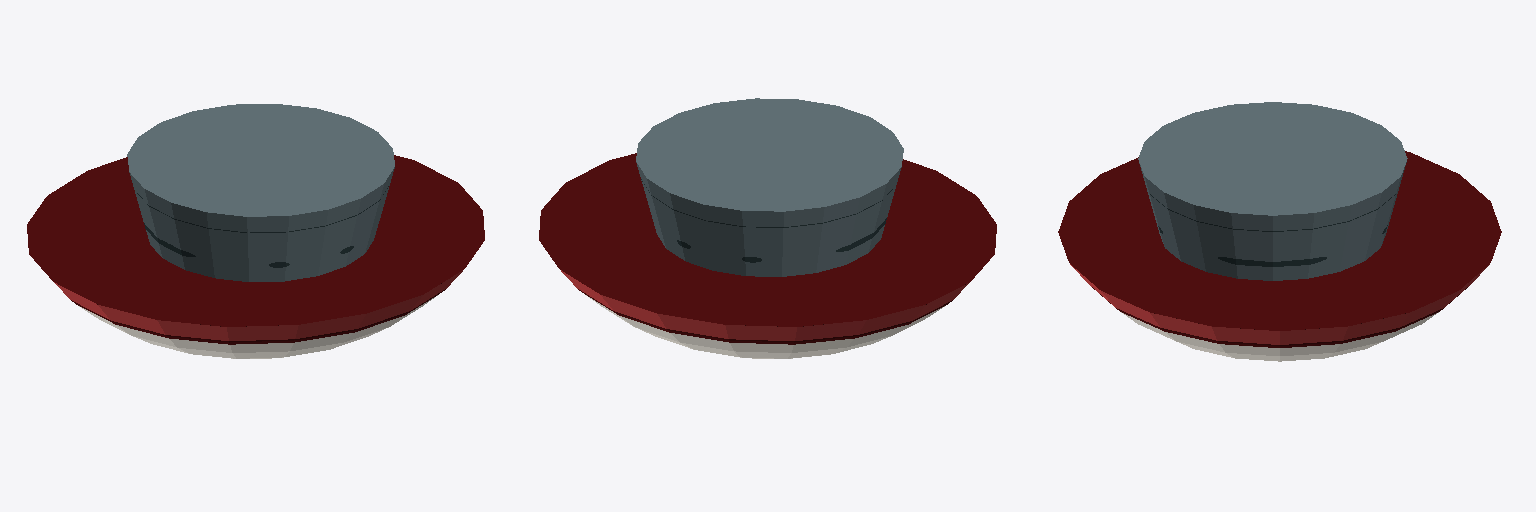
The picture shows the model from 3 angles: view 1: azimuth 30°, elevation 25°; view 2: azimuth 150°, elevation 25°; view 3: azimuth 270°, elevation 25°; orthographic projection.
Visible parts, largest first — view 1: pSphere1, pCylinder1; view 2: pSphere1, pCylinder1; view 3: pSphere1, pCylinder1.
Part boxes in pixels (bbox=[...]): pSphere1: bbox=[27, 155, 484, 358]; pCylinder1: bbox=[127, 104, 394, 281]; pSphere1: bbox=[539, 153, 996, 358]; pCylinder1: bbox=[636, 98, 903, 276]; pSphere1: bbox=[1058, 151, 1501, 361]; pCylinder1: bbox=[1138, 102, 1407, 280].
Bounding box in the file's own units: 2.1 × 0.9685 × 1.99.
Materials: 2 (2 with a texture image).